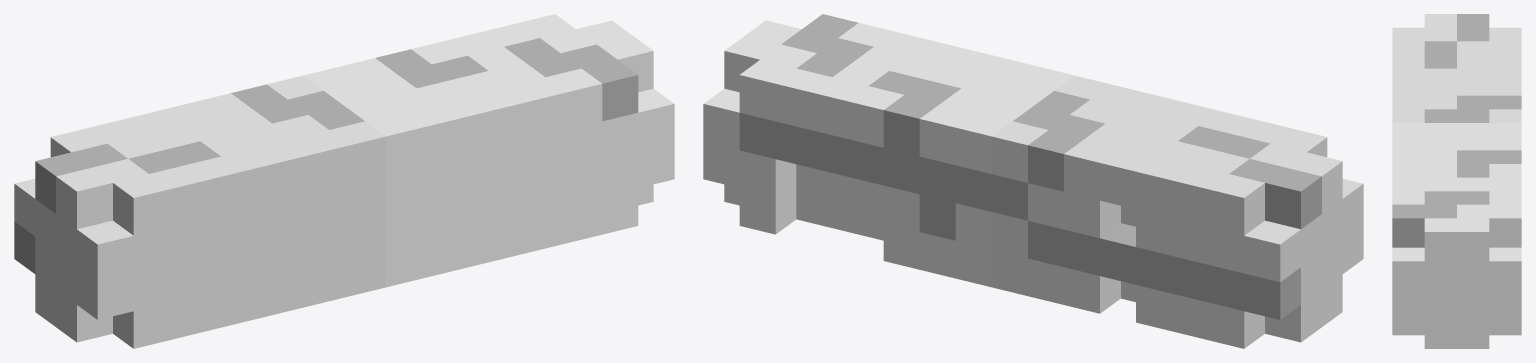
File: Skeleton_ArmR.fbx
3 renders of one model, left to right at view 1: azimuth 30°, elevation 25°; view 2: azimuth 150°, elevation 25°; view 3: azimuth 270°, elevation 25°, orthographic. The views are drawn at different scales.
Visible parts, largest first — view 1: Right Arm; view 2: Right Arm; view 3: Right Arm.
Part boxes in pixels (x1,y1,x2,y2): Right Arm: [14, 14, 674, 348]; Right Arm: [703, 14, 1363, 348]; Right Arm: [1392, 14, 1521, 348].
Size of the model in its own units: 160 by 40 by 40.
